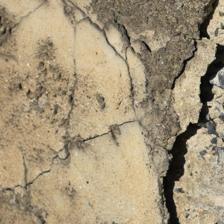Crack: (0, 60, 156, 145), (13, 13, 125, 123), (43, 31, 153, 75), (102, 42, 162, 89)
